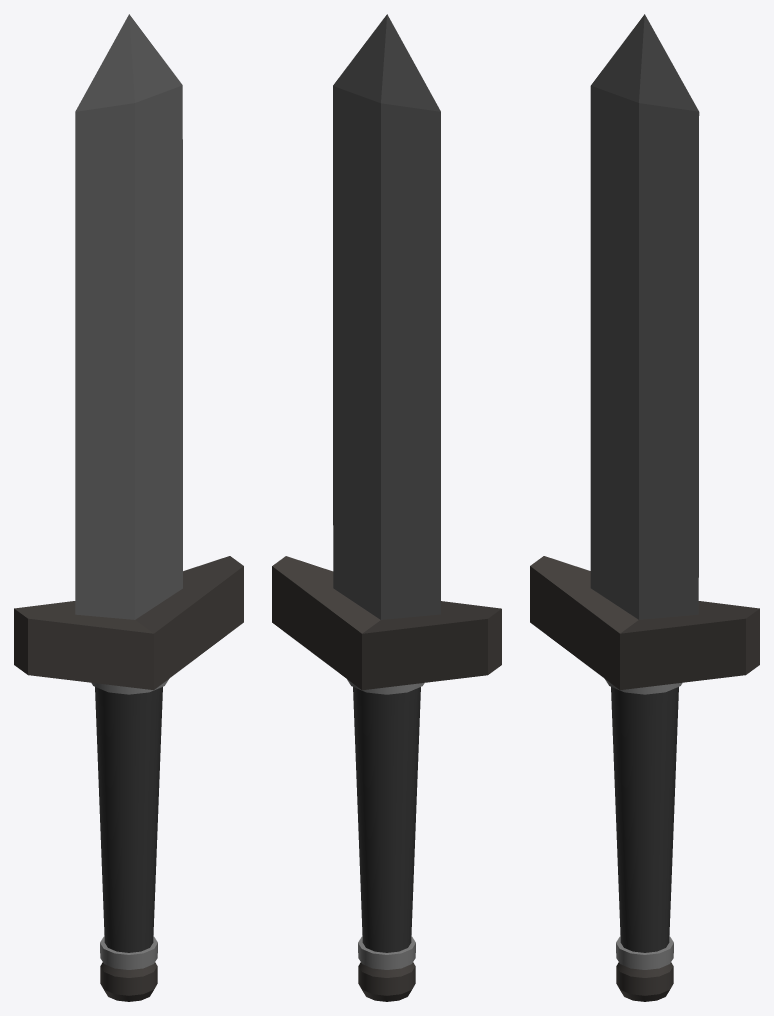
Rendered from Dagger.glb.
3 renders of one model, left to right at view 1: azimuth 30°, elevation 25°; view 2: azimuth 150°, elevation 25°; view 3: azimuth 330°, elevation 25°, orthographic.
Visible parts, largest first — view 1: Dagger; view 2: Dagger; view 3: Dagger.
Boxes of the visible parts, x1,y1,x2,y2 form: Dagger: (14,14,243,1001); Dagger: (272,14,501,1001); Dagger: (530,14,759,1001).
Bounding box in the file's own units: 0.08 × 0.3463 × 0.032.
Materials: 1 (1 with a texture image).
